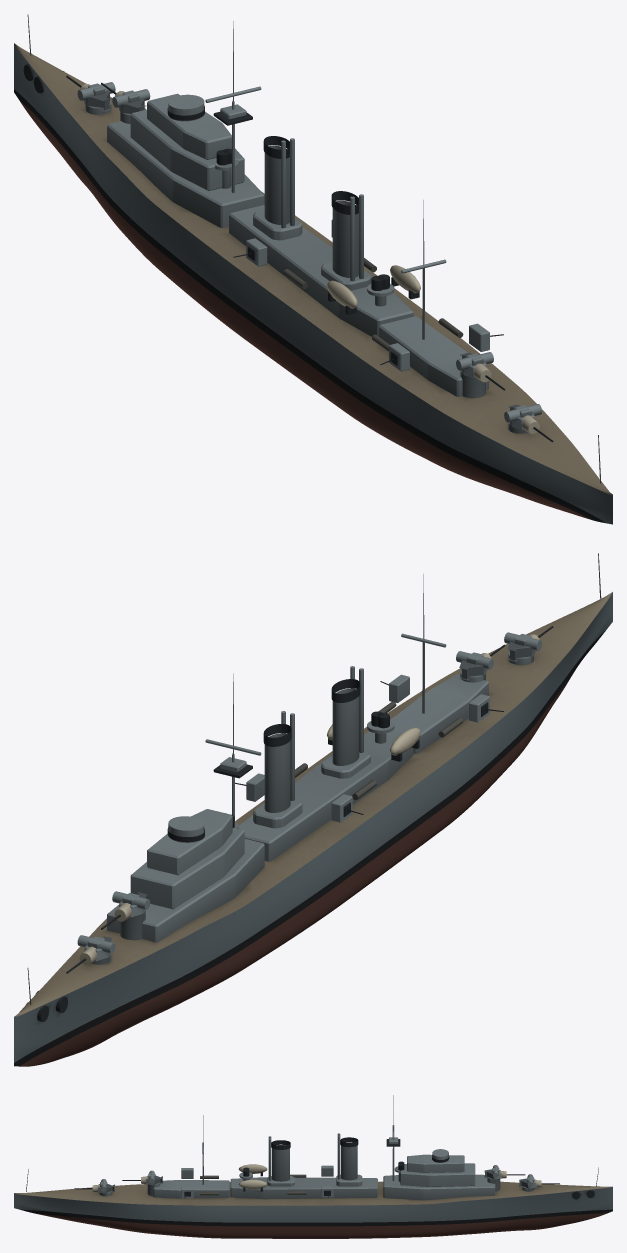
Rendered from uss-laffey.glb.
3 views of the same model, one above another, from view 1: azimuth 30°, elevation 25°; view 2: azimuth 150°, elevation 25°; view 3: azimuth 270°, elevation 25° (orthographic). The views are drawn at different scales.
Parts seen in each view (by area): view 1: uss-laffey; view 2: uss-laffey; view 3: uss-laffey.
Boxes of the visible parts, x1=… form: uss-laffey: x1=14, y1=14, x2=612, y2=524; uss-laffey: x1=14, y1=553, x2=612, y2=1066; uss-laffey: x1=14, y1=1095, x2=612, y2=1238.
Size of the model in its own units: 13.39 by 26.55 by 107.
